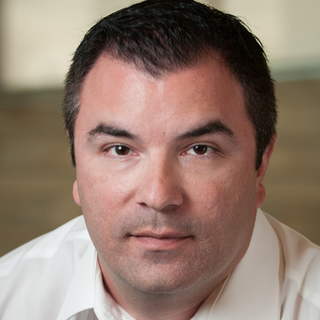eye: (177, 139, 226, 163), (95, 139, 140, 164)
